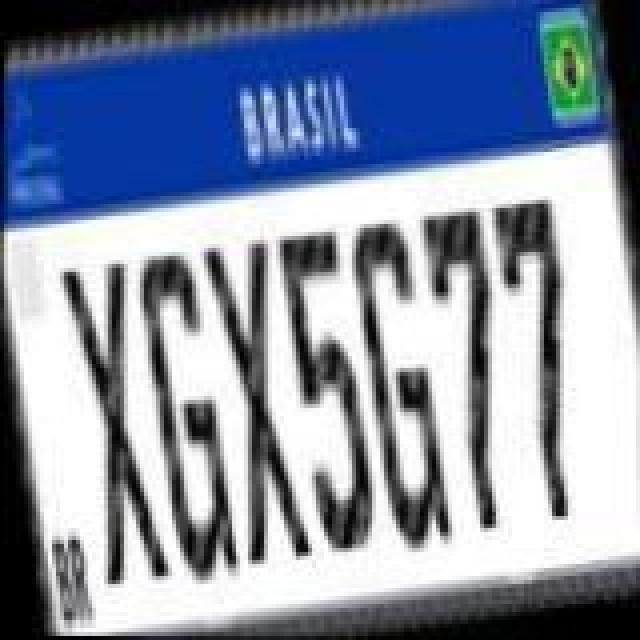5: (270, 224, 386, 556)
7: (486, 192, 606, 528), (416, 202, 532, 534)
G: (124, 244, 244, 588), (340, 212, 460, 556)
X: (50, 254, 174, 594), (198, 234, 314, 566)
